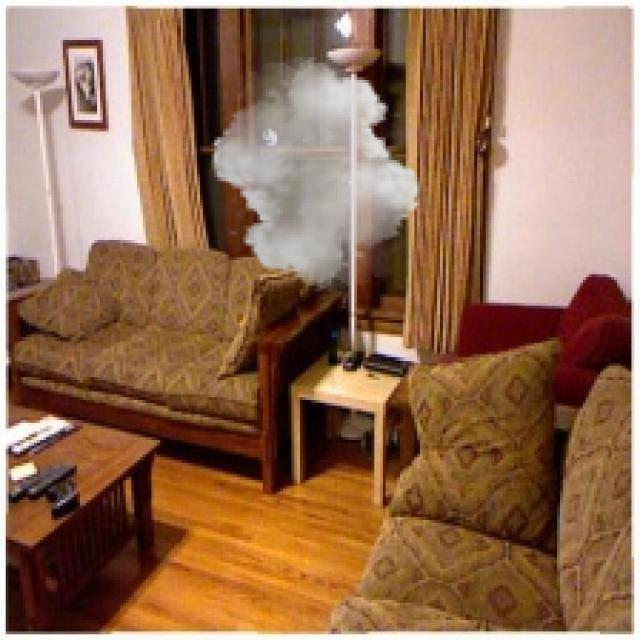Smoke: (202, 57, 428, 292)
